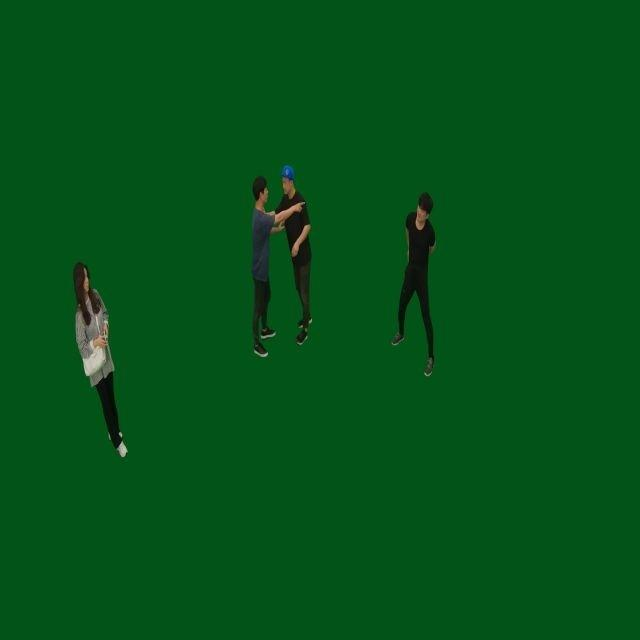fight: (246, 163, 315, 357)
non-fight: (72, 261, 128, 458), (392, 189, 439, 380)
